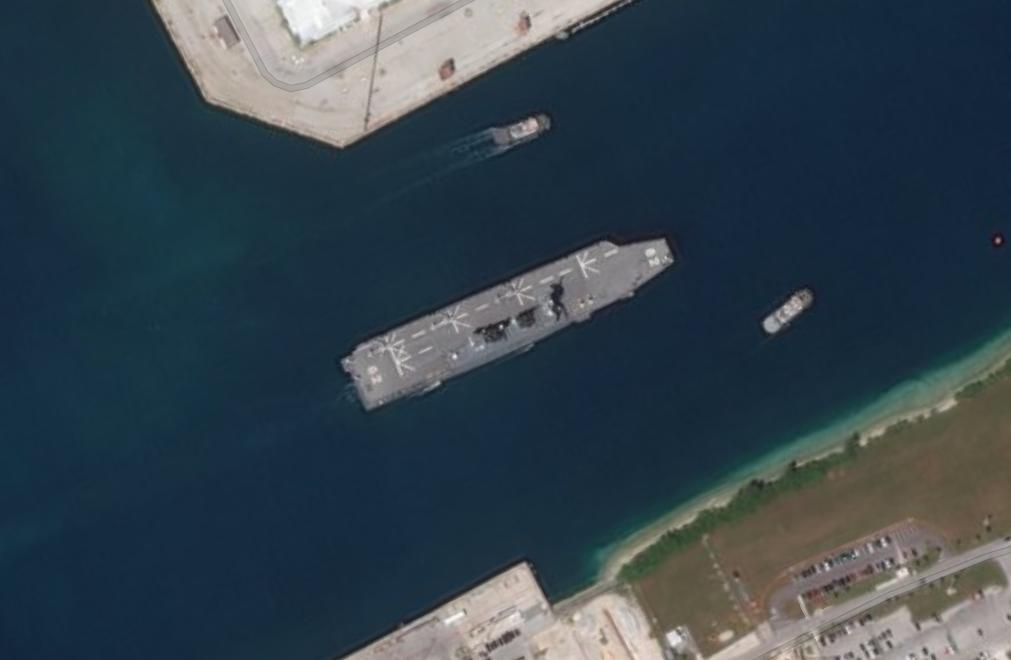pha: (335, 223, 689, 414)
